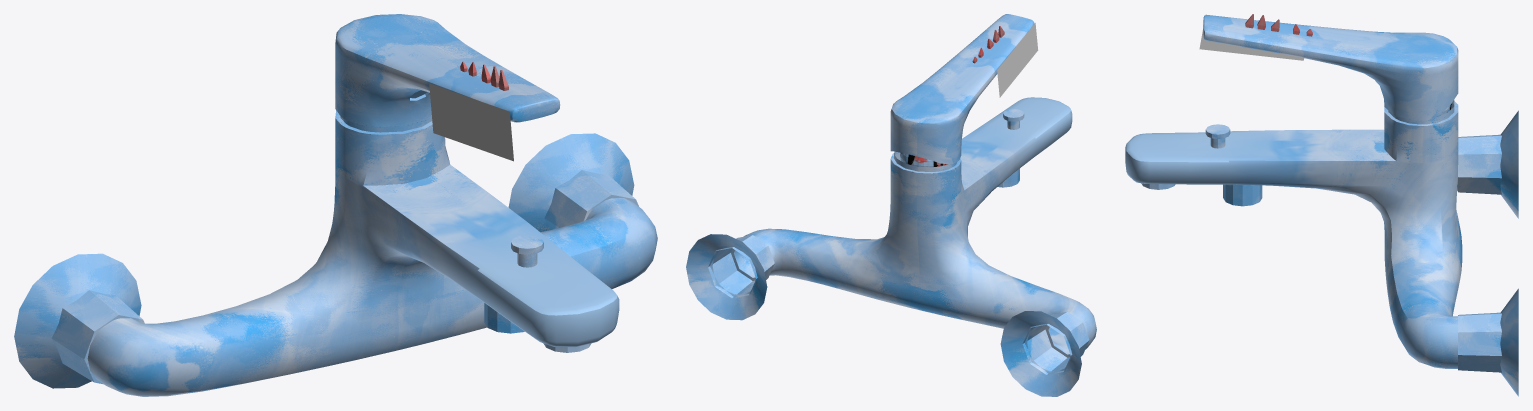
The model's file is faucet.fbx.
3 renders of one model, left to right at view 1: azimuth 30°, elevation 25°; view 2: azimuth 150°, elevation 25°; view 3: azimuth 270°, elevation 25°, orthographic. The views are drawn at different scales.
Parts seen in each view (by area): view 1: Plane.002, Plane.005, Plane.001; view 2: Plane.002, Plane.005, Plane.001; view 3: Plane.002, Plane.005, Plane.001.
Boxes of the visible parts, x1,y1,x2,y2 form: Plane.002: [14, 110, 657, 396]; Plane.005: [335, 14, 560, 127]; Plane.001: [429, 83, 513, 161]; Plane.002: [686, 97, 1096, 396]; Plane.005: [890, 14, 1034, 164]; Plane.001: [997, 23, 1038, 97]; Plane.002: [1125, 100, 1518, 396]; Plane.005: [1203, 14, 1458, 120]; Plane.001: [1199, 14, 1303, 60].
Bounding box in the file's own units: 39.33 × 23.59 × 29.19.
